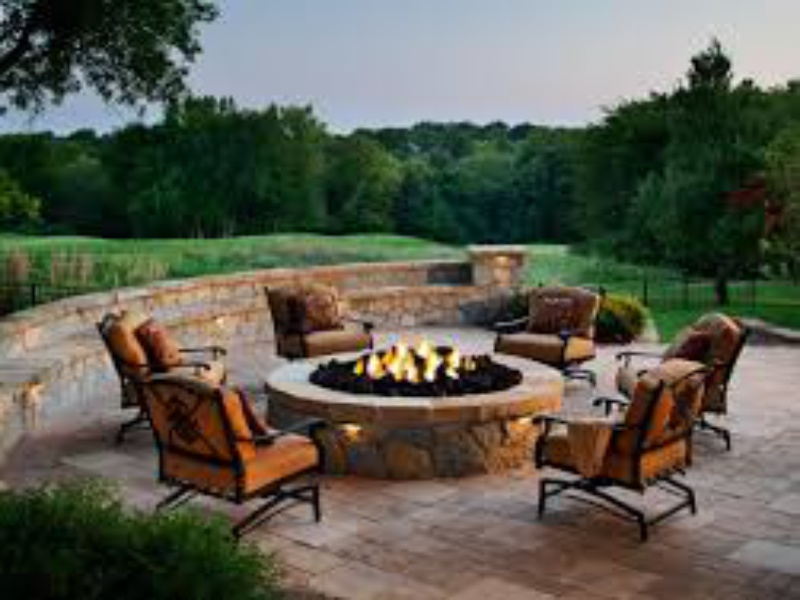fire: (365, 341, 461, 376)
